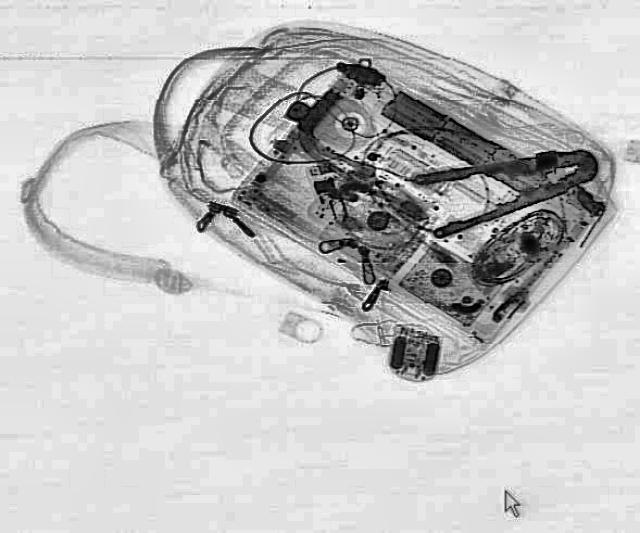Pliers: (408, 133, 610, 239)
